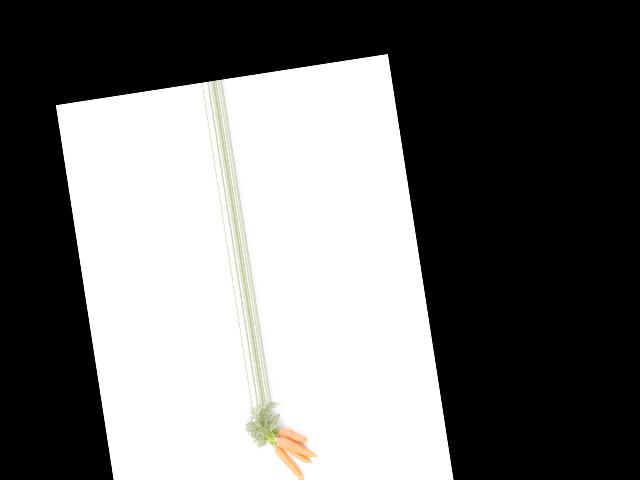carrot: (275, 423, 311, 448)
